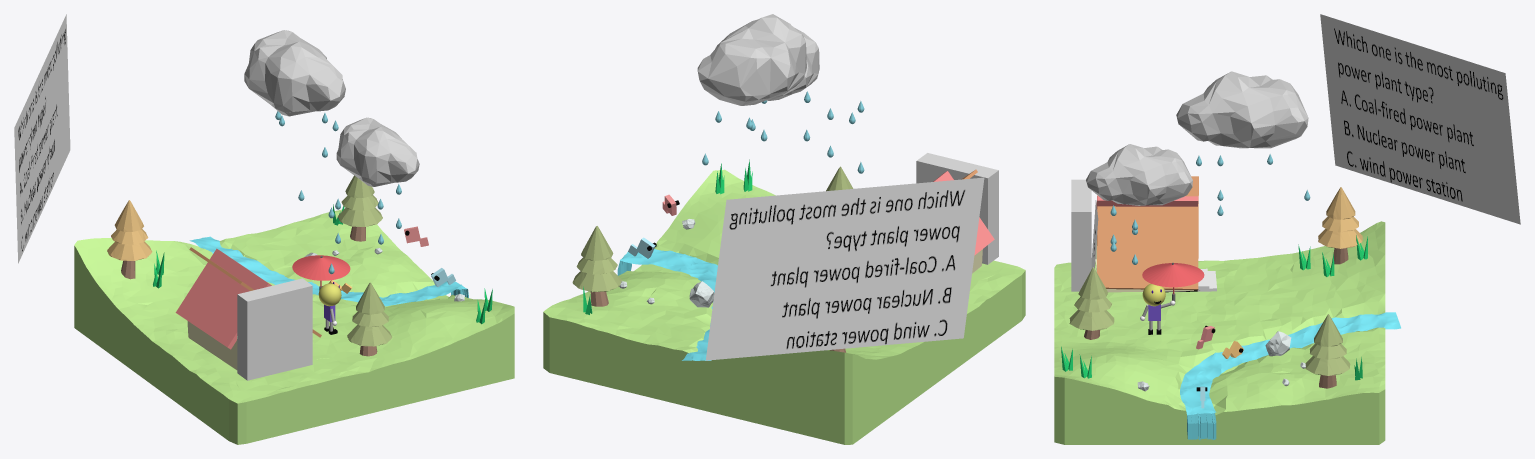
File: rainQ6.glb
3 renders of one model, left to right at view 1: azimuth 30°, elevation 25°; view 2: azimuth 150°, elevation 25°; view 3: azimuth 270°, elevation 25°, orthographic. The views are drawn at different scales.
Visible parts, largest first — view 1: terrain, pPlane2, Cube, cloud, house:pCube6, clouds:pPlatonic1, water, umbrella:Mesh, house:pCube4, pCylinder1, trees:pCylinder8, trees:pCylinder1 (+2 smaller); view 2: terrain, pPlane2, cloud, Cube, water, clouds:pPlatonic1, trees:pCylinder1, trees:pCylinder4, trees:pCylinder3, stone:pPlatonic2, house:pCube6; view 3: terrain, pPlane2, cloud, house:pCube5, clouds:pPlatonic1, water, Cube, umbrella:Mesh, pCylinder1, trees:pCylinder8, trees:pCylinder1, trees:pCylinder7 (+7 smaller).
Part boxes in pixels (x1,y1,x2,y2): terrain: (74, 209, 514, 444); pPlane2: (14, 14, 70, 263); Cube: (237, 278, 312, 380); cloud: (244, 30, 345, 116); house:pCube6: (175, 248, 271, 349); clouds:pPlatonic1: (336, 117, 419, 186); water: (189, 236, 468, 306); umbrella:Mesh: (292, 255, 350, 286); house:pCube4: (187, 321, 237, 369); pCylinder1: (347, 324, 392, 346); trees:pCylinder8: (107, 241, 152, 260); trees:pCylinder1: (338, 207, 382, 226); terrain: (543, 169, 1025, 444); pPlane2: (705, 177, 984, 360); cloud: (697, 14, 806, 105); Cube: (916, 153, 998, 264); water: (617, 249, 717, 360); clouds:pPlatonic1: (767, 27, 819, 100); trees:pCylinder1: (572, 271, 622, 292); trees:pCylinder4: (581, 226, 613, 260); trees:pCylinder3: (576, 257, 617, 274); stone:pPlatonic2: (689, 281, 714, 307); house:pCube6: (933, 171, 994, 255); terrain: (1054, 221, 1385, 444); pPlane2: (1320, 14, 1520, 224); cloud: (1176, 71, 1308, 148); house:pCube5: (1097, 176, 1198, 290); clouds:pPlatonic1: (1086, 144, 1192, 205); water: (1180, 312, 1400, 440); Cube: (1071, 179, 1091, 291); umbrella:Mesh: (1142, 263, 1204, 294); pCylinder1: (1069, 310, 1114, 330); trees:pCylinder8: (1318, 228, 1362, 248); trees:pCylinder1: (1305, 356, 1350, 375); trees:pCylinder7: (1326, 187, 1355, 219).
Bounding box in the file's own units: 0.4613 × 0.3485 × 0.4738.
30 materials, 3 textured.
